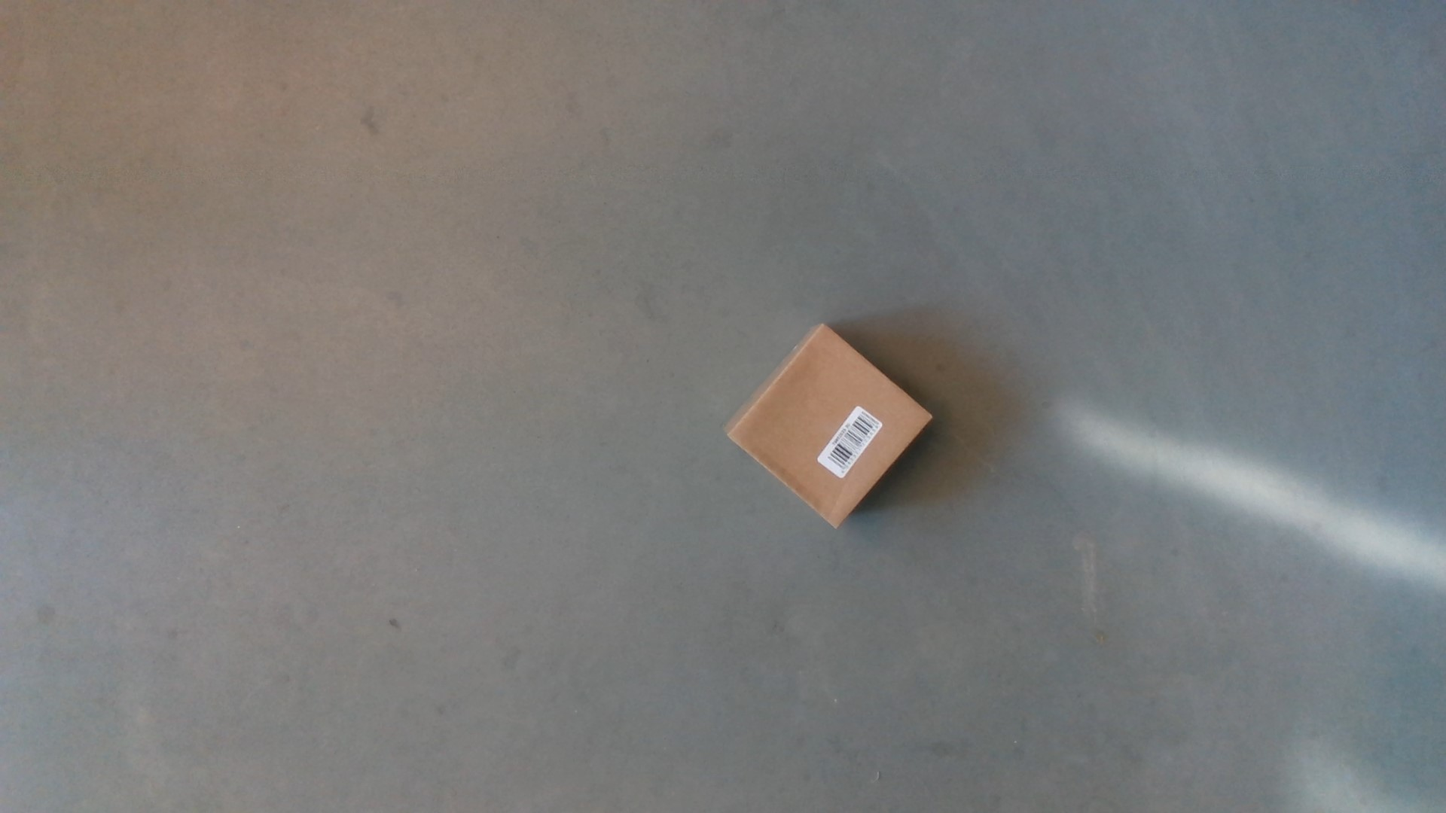Parcel: (724, 320, 933, 527)
